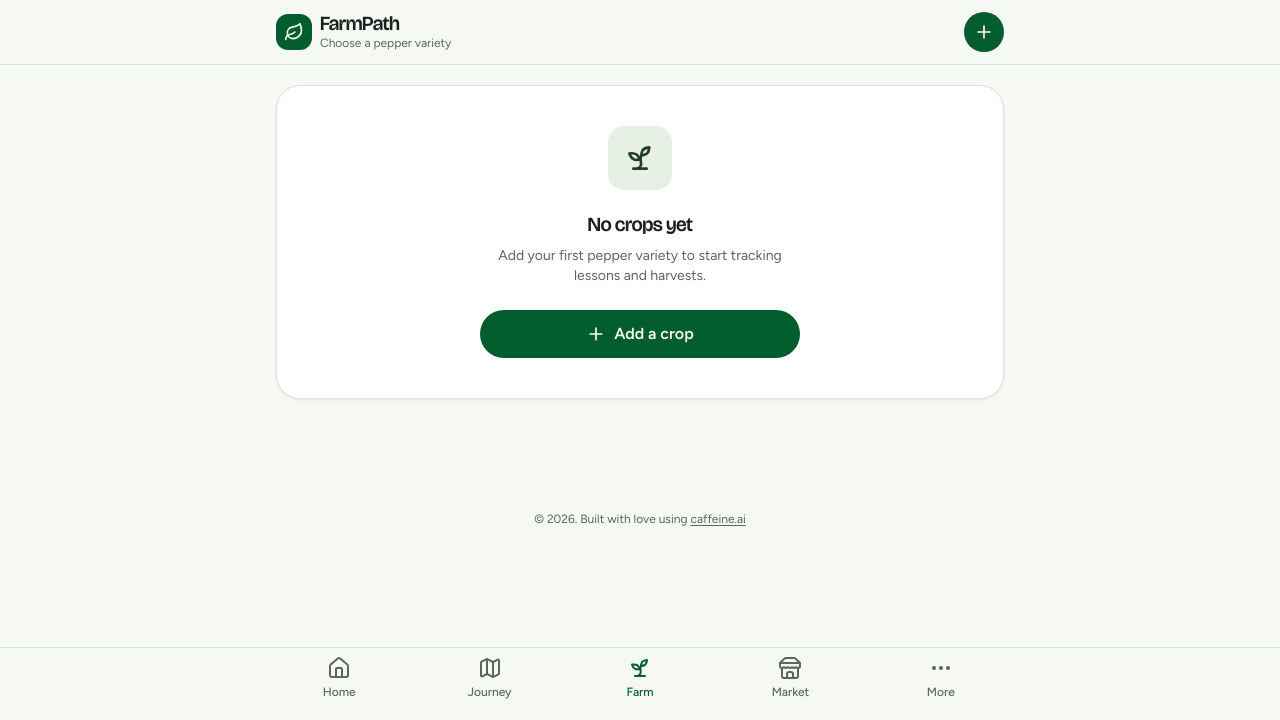
Test: Crops › adds a crop through the dialog and shows it in the list
Click the button with test id "crops.add_button". click: (640, 334)
box: [480, 310, 800, 358]
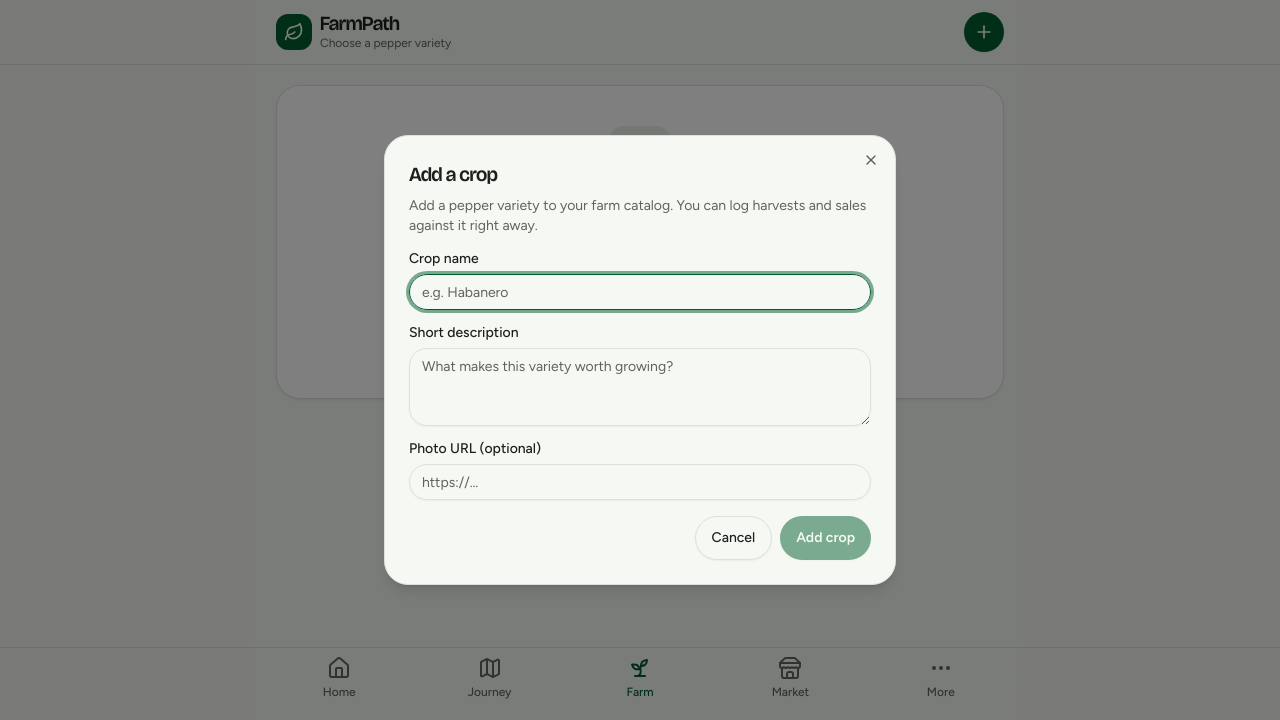
Type "Habanero" into the field with test id "crops.name_input". click: (640, 292)
box: [409, 274, 871, 310]
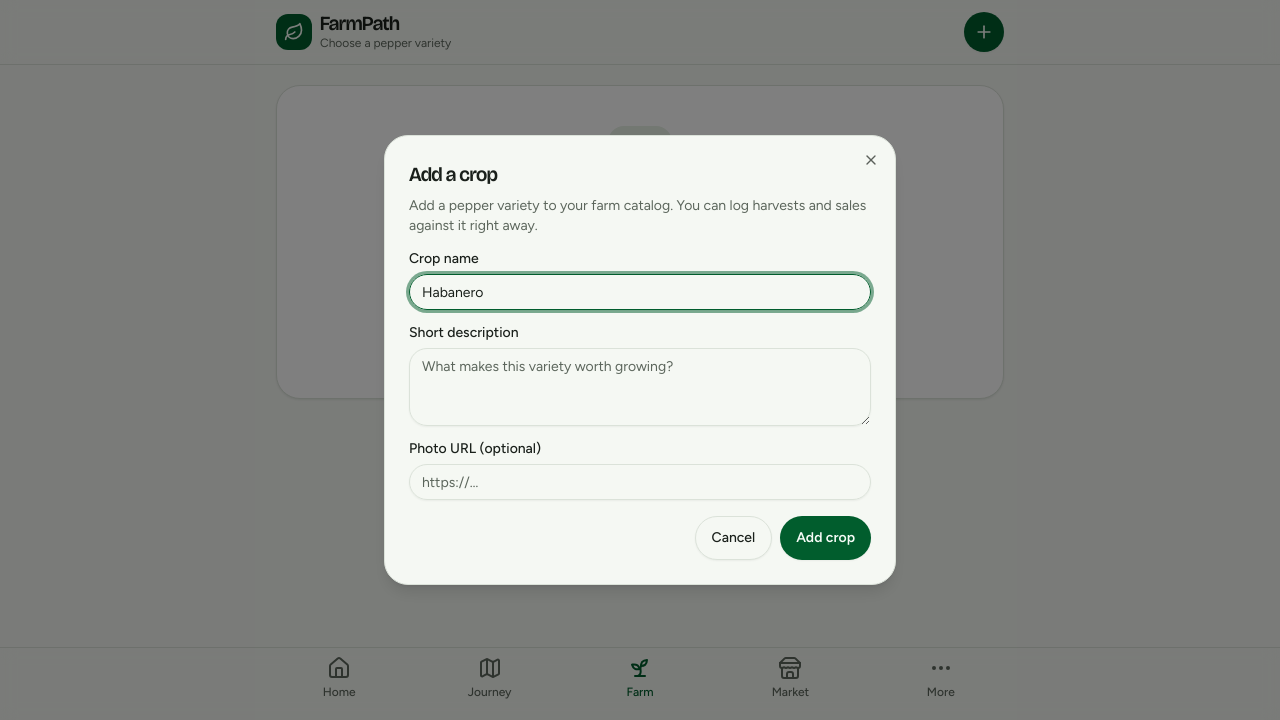
Type "Fiery orange pepper" into the text box with test id "crops.description_input". click: (640, 387)
box: [409, 348, 871, 426]
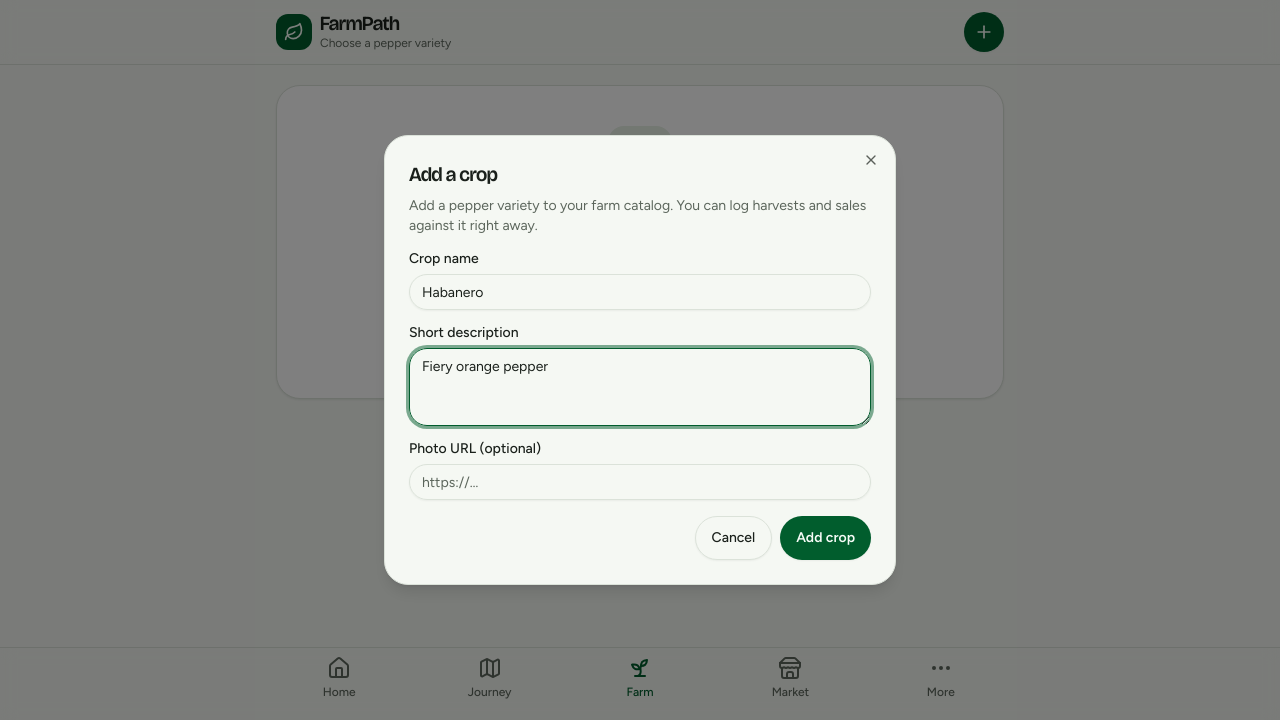
Click the button with test id "crops.submit_button". click: (826, 538)
box: [780, 516, 871, 560]
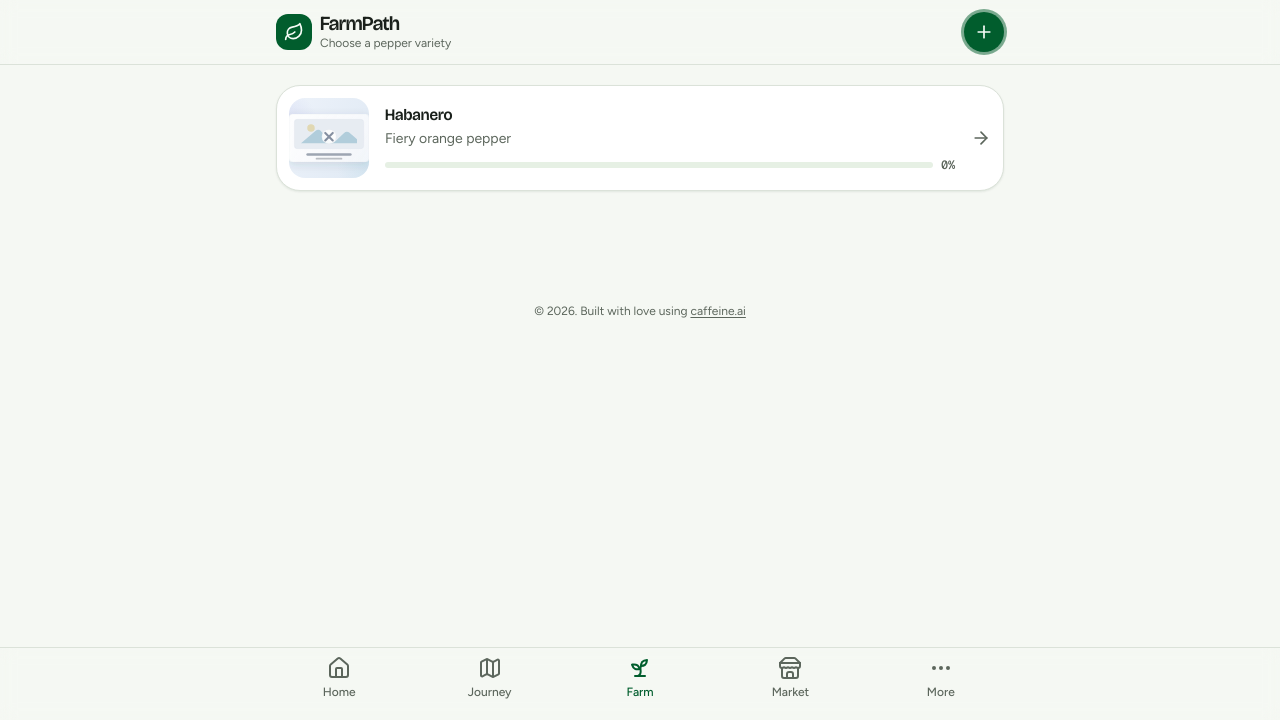
Check: the text "Habanero" is shown, box [385, 105, 452, 124]
Check: the text "Fiery orange pepper" is shown, box [385, 130, 511, 147]
